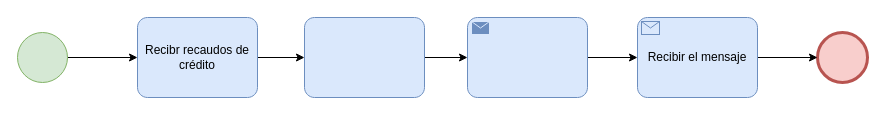
This 885x115 diagram has some shape labels left out. The shapes that lost their labels are listed below. From the top down, each one's box as (x1, y1, x2, y2) in pixels, then its label:
(304, 16, 424, 98): Analizar recaudos
(466, 16, 588, 98): Devolver respuesta por correo
